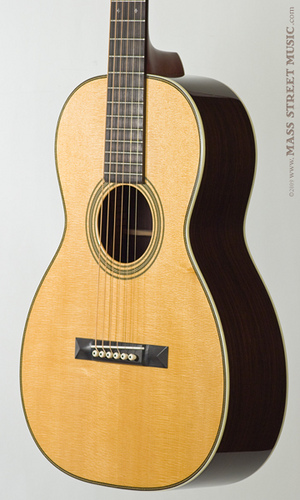guitar: (16, 1, 288, 492)
